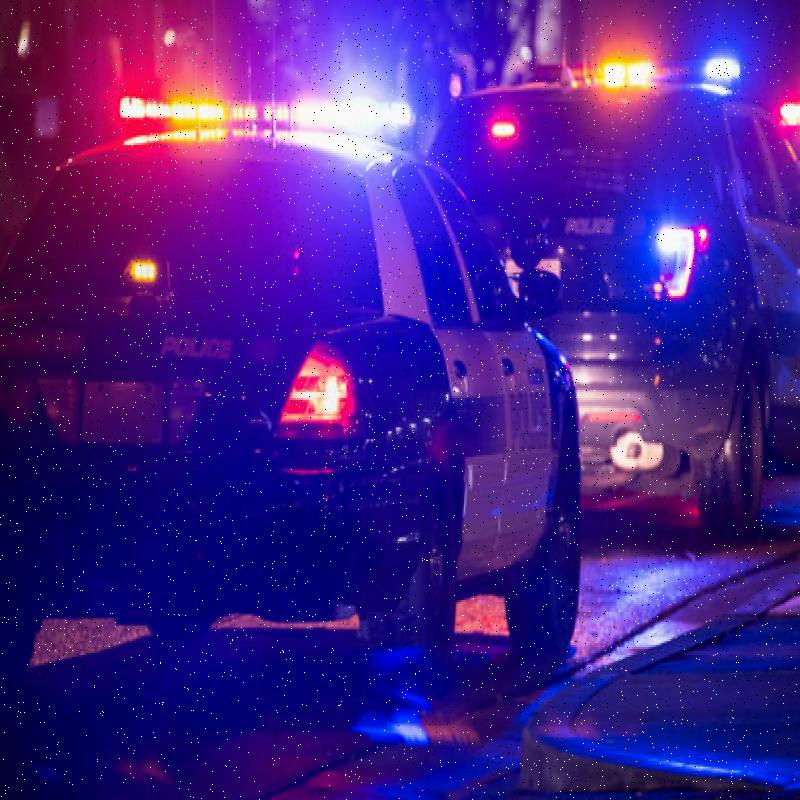AmbulanceSiren: (100, 70, 432, 144), (545, 36, 748, 96)
car: (0, 129, 602, 742)
